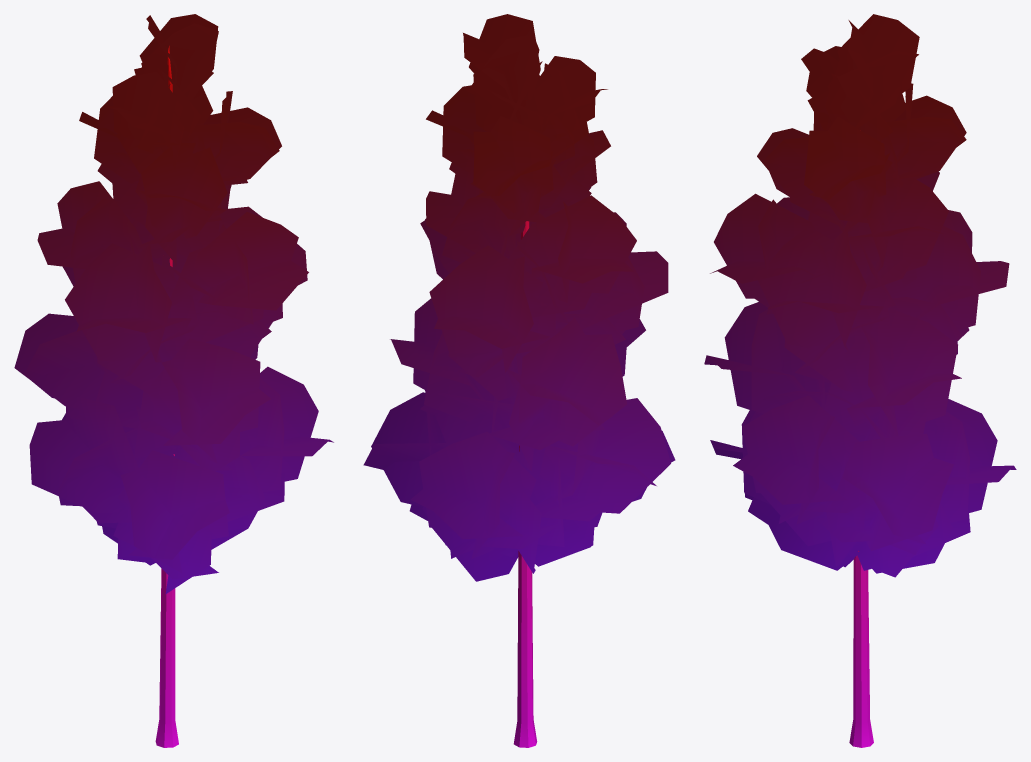
File: synty-tree-birch-03.gltf
3 renders of one model, left to right at view 1: azimuth 30°, elevation 25°; view 2: azimuth 150°, elevation 25°; view 3: azimuth 270°, elevation 25°, orthographic.
Parts seen in each view (by area): view 1: SM_Tree_Birch_03; view 2: SM_Tree_Birch_03; view 3: SM_Tree_Birch_03.
Boxes of the visible parts, x1,y1,x2,y2 form: SM_Tree_Birch_03: (14,14,333,747); SM_Tree_Birch_03: (363,14,675,747); SM_Tree_Birch_03: (704,14,1016,747).
Size of the model in its own units: 2.14 by 5.4 by 2.11.
